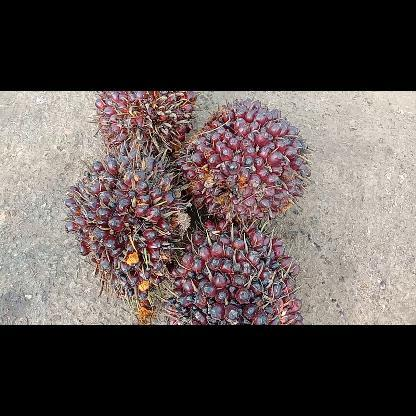Kurang masak: (61, 140, 193, 308), (165, 216, 305, 324), (87, 91, 199, 157)
TBS masak: (175, 96, 315, 226)
